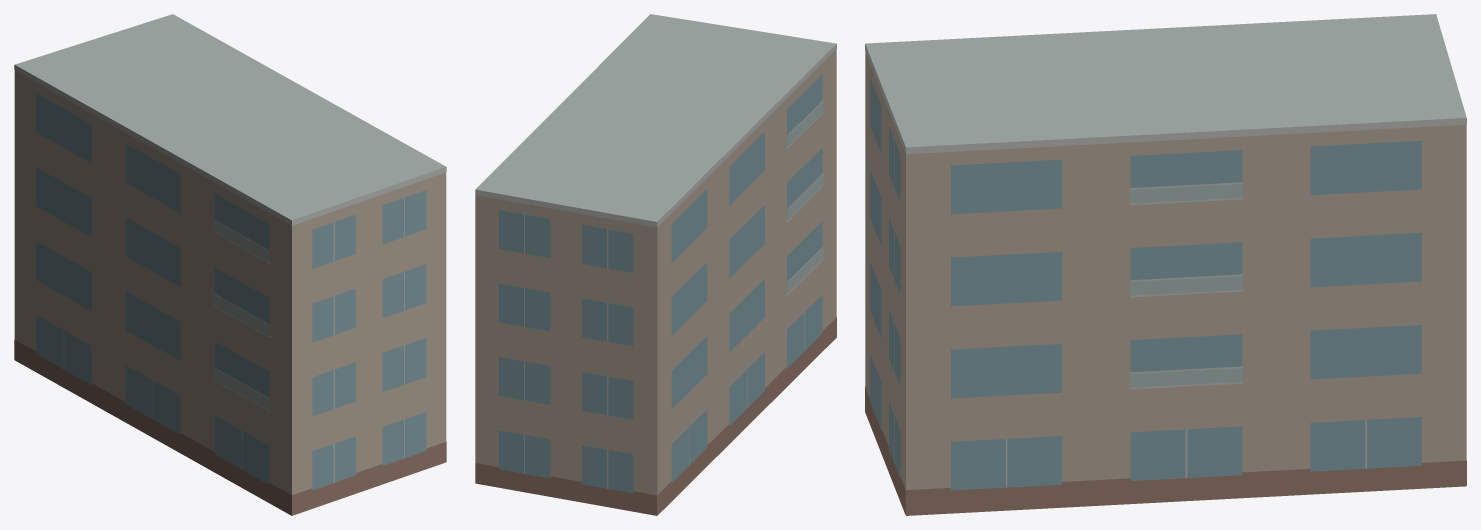
The model's file is survey-upis-33009355.glb.
3 renders of one model, left to right at view 1: azimuth 30°, elevation 25°; view 2: azimuth 150°, elevation 25°; view 3: azimuth 270°, elevation 25°, orthographic. The views are drawn at different scales.
Visible parts, largest first — view 1: survey-upis-33009355.tmp; view 2: survey-upis-33009355.tmp; view 3: survey-upis-33009355.tmp.
Part boxes in pixels (x1,y1,x2,y2): survey-upis-33009355.tmp: (14, 14, 446, 515); survey-upis-33009355.tmp: (475, 14, 836, 515); survey-upis-33009355.tmp: (865, 14, 1466, 515).
Bounding box in the file's own units: 10.26 × 13.2 × 19.55.
